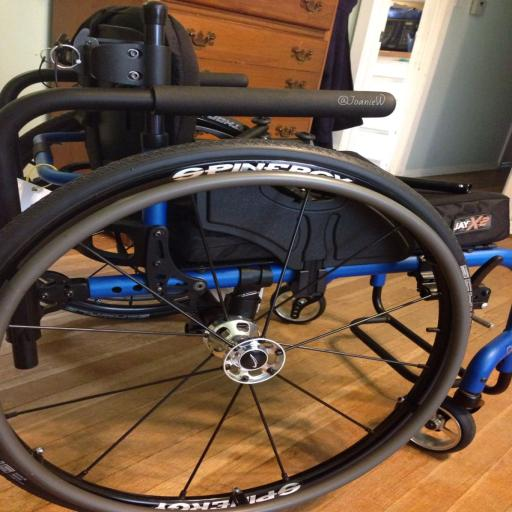road: (0, 2, 511, 512)
